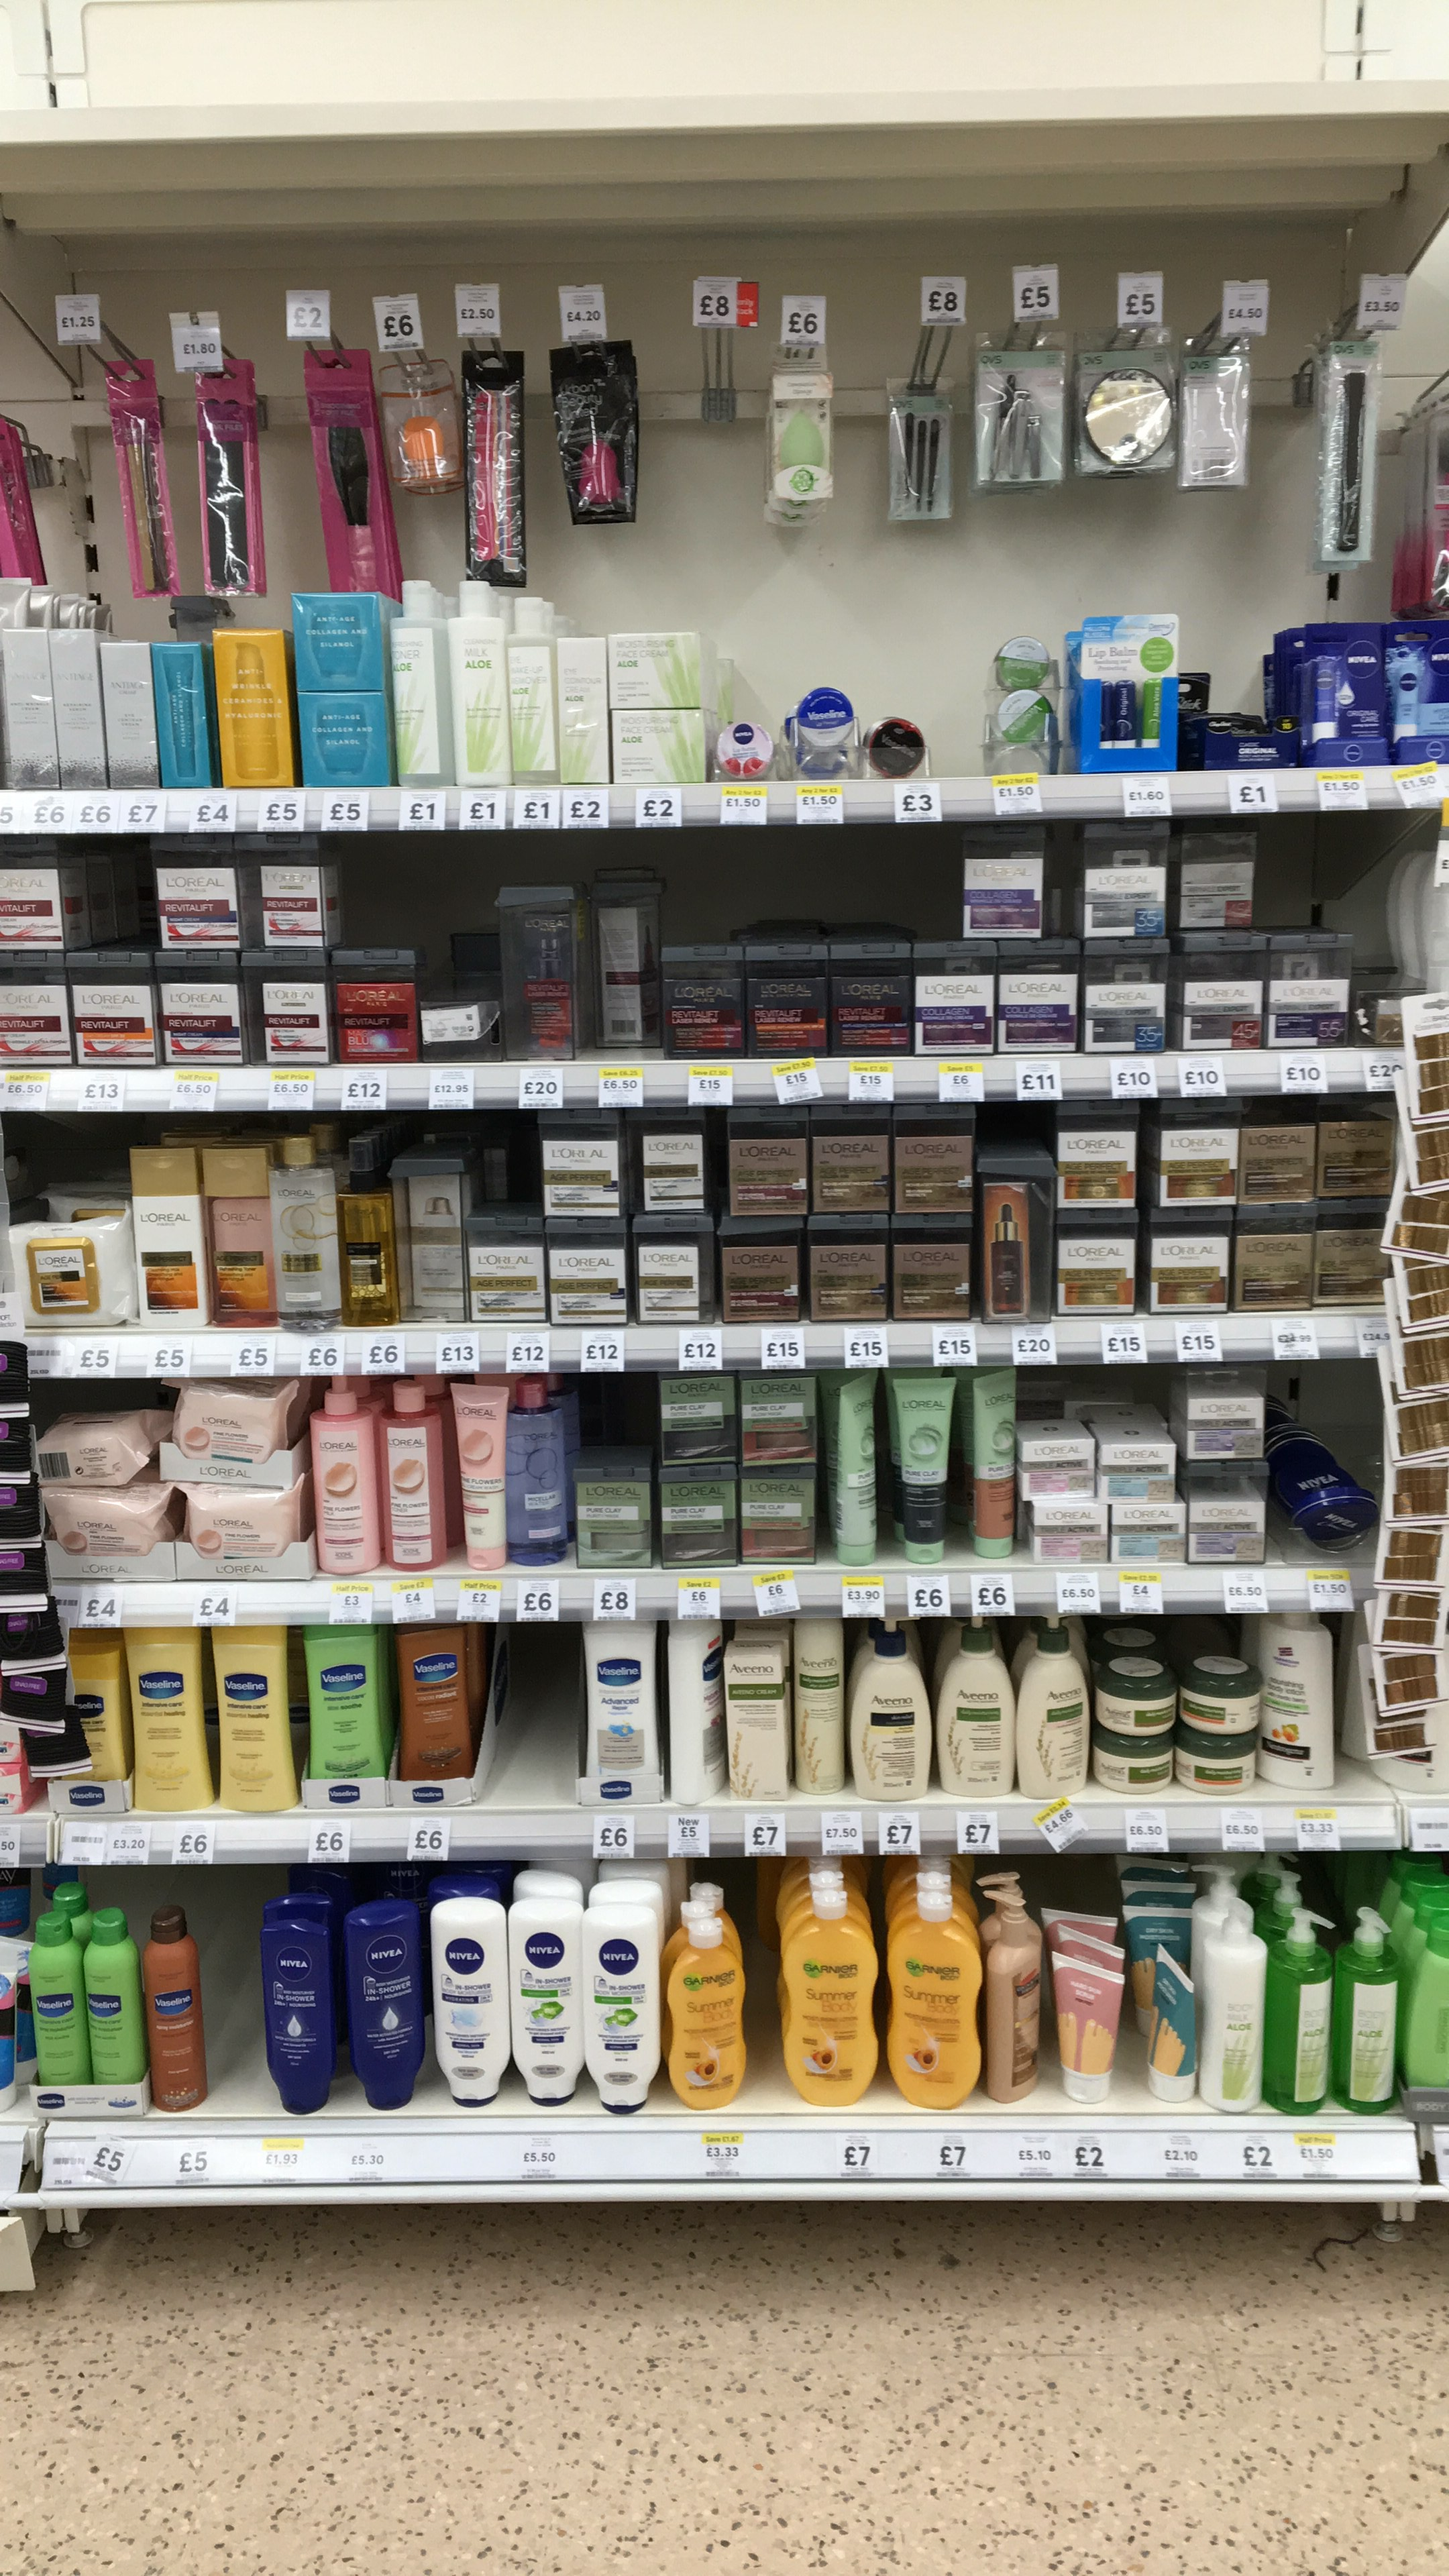Out-of-stock: (495, 1622, 580, 1806)
